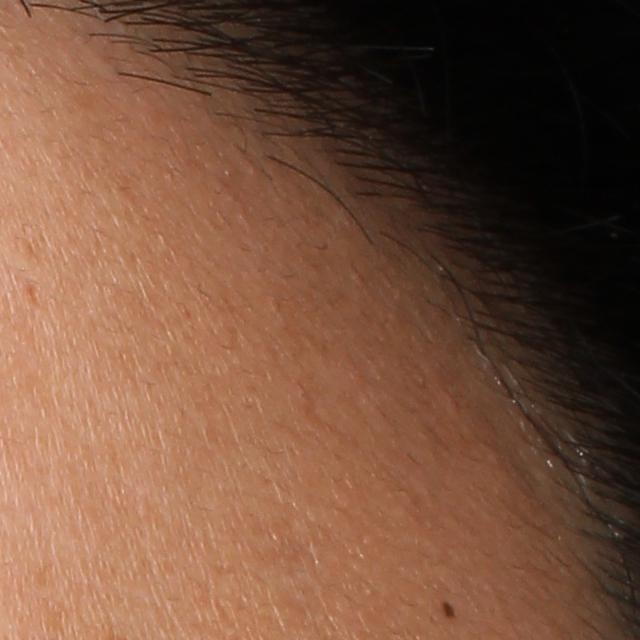nevus: (434, 595, 459, 627)
